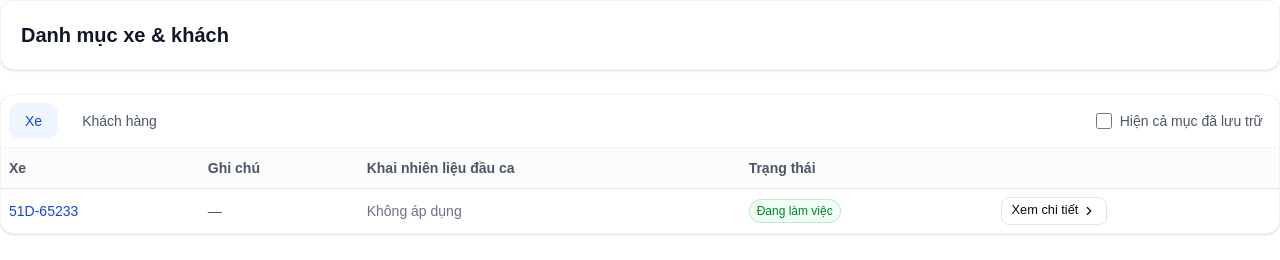
Scenario: TripMasterDataPage › what each caller is offered › ★ offers a booker without vehicle.create the customer "add" and not the vehicle one (DL-112)
Expected: the text "51D-65233" is shown, [1,188,200,232]
Step 1. Click the button "Khách hàng" → (119, 121), box [66,103,173,139]
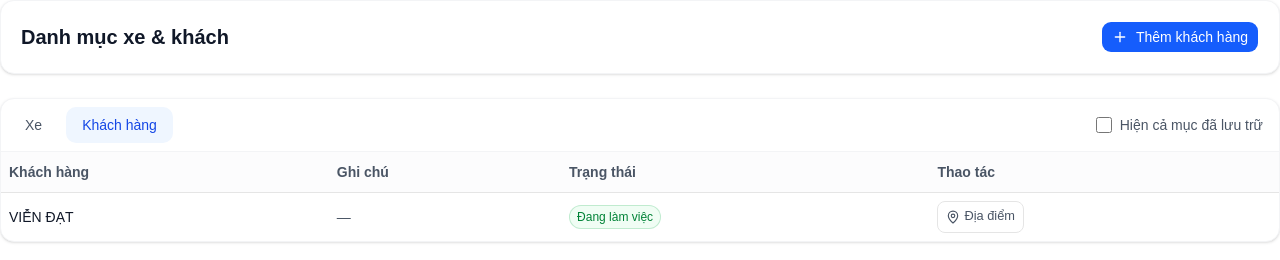
Expected: the button "Thêm khách hàng" is shown, [1101,21,1259,53]
